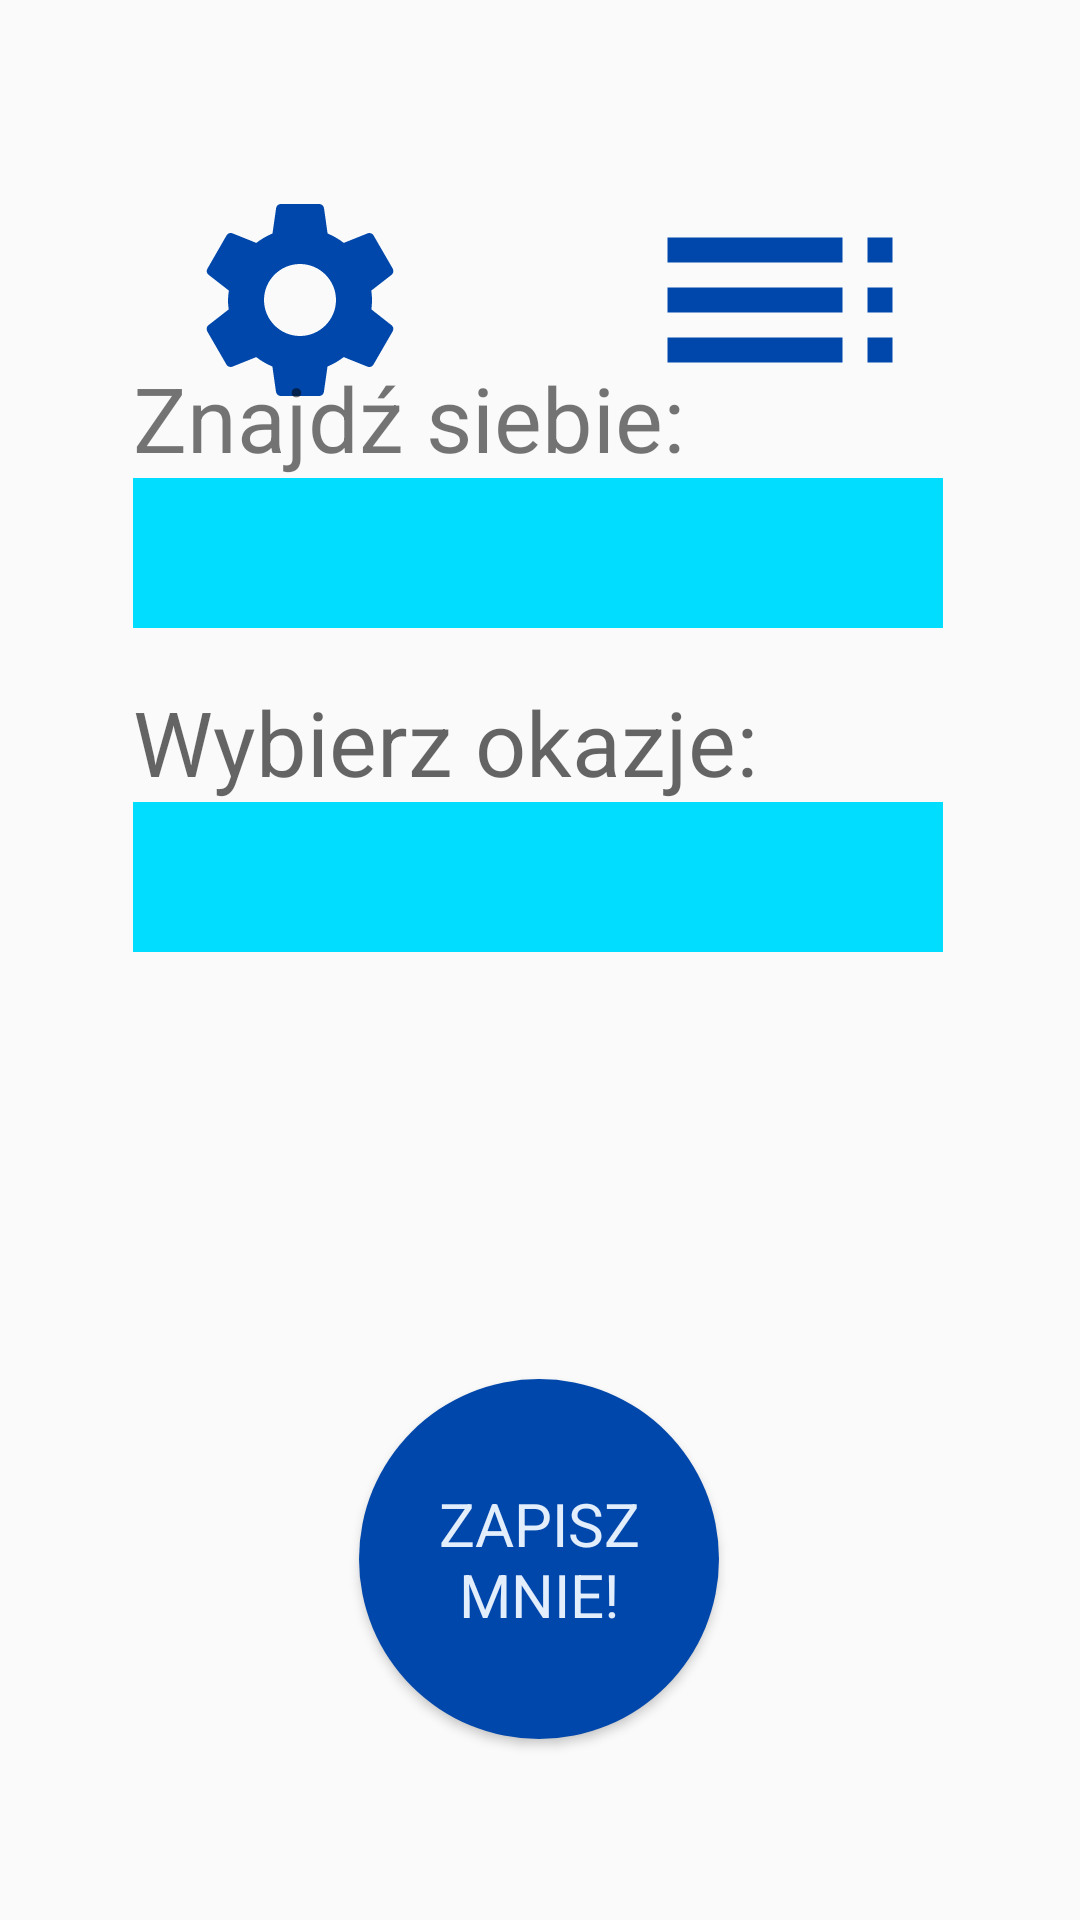

Screen size 1080×1920. Icon name, then its center in pixels as [x,y]:
admin settings: [297,327]
